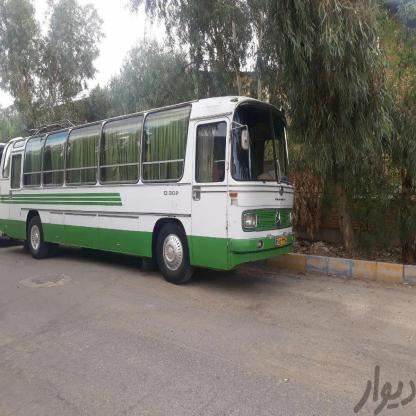Bus: (0, 86, 300, 292)
